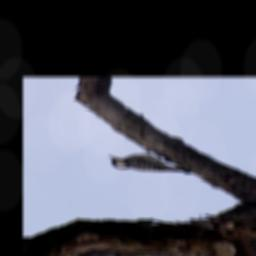Woodpecker: (102, 140, 198, 187)
